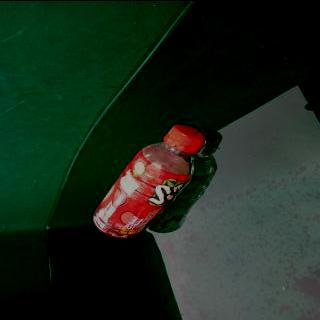bottle: (90, 122, 207, 238)
